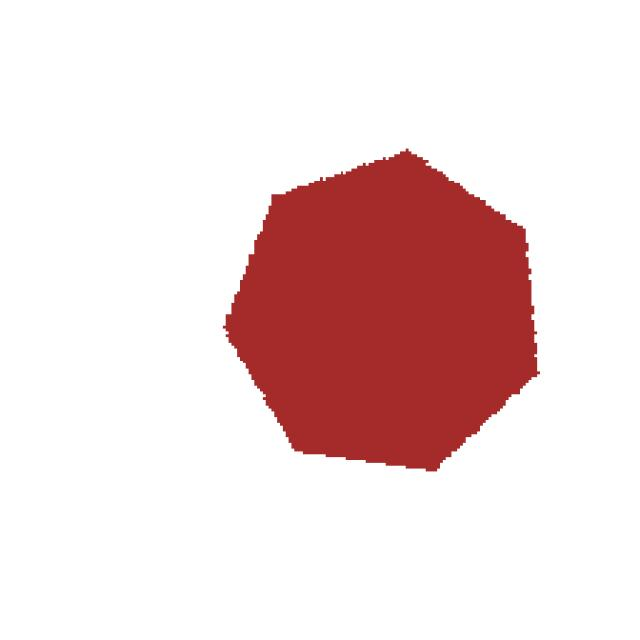Heptagon: (160, 131, 589, 520)
